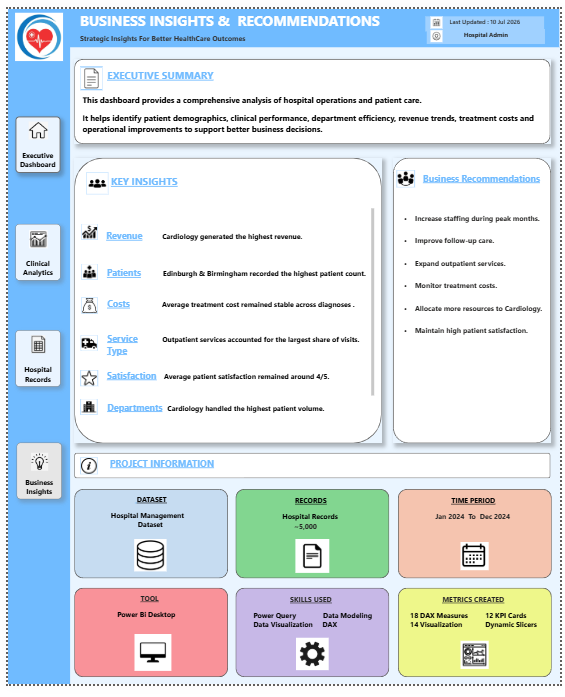

This screenshot's page, from the dashboard's own definition file:
{"tool":"powerbi","page":{"name":"Business Insights & Recommendations","canvas":[1470,1800],"ordinal":3},"visuals":[{"type":"shape","box":[0,101.4,165.7,1848.6],"z":0,"group":"g1"},{"type":"shape","box":[0,0,1470,102],"z":1000,"group":"g1"},{"type":"textbox","box":[176.7,0,848.3,73.3],"z":2000,"group":"g1"},{"type":"textbox","box":[176.7,60,571.7,41.7],"z":3000,"group":"g1"},{"type":"image","box":[8.6,8.6,145.7,128.6],"z":4000,"group":"g1"},{"type":"actionButton","box":[20,285,120,150],"z":5000,"group":"g1"},{"type":"cardVisual","fields":{"Data":["DAX Measures.Last Refresh"]},"box":[1096.7,1.7,350,73.3],"z":6000,"group":"g1"},{"type":"actionButton","box":[20,571.7,120,150],"z":7000,"group":"g1"},{"type":"image","box":[51.7,300,55,48.3],"z":8000,"group":"g1"},{"type":"image","box":[51.7,588.3,55,48.3],"z":9000,"group":"g1"},{"type":"actionButton","box":[21.7,1156.7,120,150],"z":10000,"group":"g1"},{"type":"actionButton","box":[20,855,120,150],"z":11000,"group":"g1"},{"type":"image","box":[56.7,1183.3,55,48.3],"z":12000,"group":"g1"},{"type":"image","box":[53.3,870,55,48.3],"z":13000,"group":"g1"},{"type":"textbox","box":[1115,53.3,315,40],"z":14000,"group":"g1"},{"type":"image","box":[1126.7,20,31.7,31.7],"z":15000,"group":"g1"},{"type":"shape","box":[176.7,133.3,1270,226.7],"z":16000,"group":"g1"},{"type":"image","box":[1126.7,51.7,31.7,38.3],"z":17000,"group":"g1"},{"type":"shape","box":[176.7,395,820,761.7],"z":18000,"group":"g1"},{"type":"textbox","box":[191.7,151.7,1238.3,196.7],"z":19000,"group":"g1"},{"type":"image","box":[191.7,151.7,58.3,63.3],"z":20000,"group":"g1"},{"type":"textbox","box":[191.7,435,340,78.3],"z":21000,"group":"g1"},{"type":"image","box":[210,435,56.7,56.7],"z":22000,"group":"g1"},{"type":"textbox","box":[191.7,525,788.3,586.7],"z":23000,"group":"g1"},{"type":"image","box":[196.7,571.7,41.7,41.7],"z":24000,"group":"g1"},{"type":"image","box":[196.7,680,41.7,41.7],"z":25000,"group":"g1"},{"type":"image","box":[196.7,770,41.7,41.7],"z":26000,"group":"g1"},{"type":"image","box":[191.7,870,46.7,41.7],"z":27000,"group":"g1"},{"type":"image","box":[191.7,963.3,46.7,41.7],"z":28000,"group":"g1"},{"type":"image","box":[193.3,1040,45,41.7],"z":29000,"group":"g1"},{"type":"shape","box":[1025,395,421.7,761.7],"z":30000,"group":"g1"},{"type":"textbox","box":[1096.7,428.3,331.7,70],"z":31000,"group":"g1"},{"type":"image","box":[1036.7,430,48.3,45],"z":32000,"group":"g1"},{"type":"textbox","box":[1036.7,538.3,393.3,588.3],"z":33000,"group":"g1"},{"type":"shape","box":[176.7,1183.3,1270,68.3],"z":34000,"group":"g1"},{"type":"textbox","box":[191.7,1188.3,435,58.3],"z":35000,"group":"g1"},{"type":"image","box":[193.3,1196.7,45,43.3],"z":36000,"group":"g1"},{"type":"shape","box":[176.7,1278.3,410,238.3],"z":37000,"group":"g1"},{"type":"textbox","box":[185,1290,388.3,210],"z":38000,"group":"g1"},{"type":"image","box":[333.3,1413.3,93.3,86.7],"z":39000,"group":"g1"},{"type":"shape","box":[1040,1278.3,410,238.3],"z":40000,"group":"g1"},{"type":"textbox","box":[1048.3,1294.7,388.3,210],"z":41000,"group":"g1"},{"type":"image","box":[1206.7,1413.3,75,91.7],"z":42000,"group":"g1"},{"type":"shape","box":[608.3,1278.3,410,238.3],"z":43000,"group":"g1"},{"type":"textbox","box":[612.3,1293.3,388.3,210],"z":44000,"group":"g1"},{"type":"image","box":[760,1413.3,103.3,90],"z":45000,"group":"g1"},{"type":"shape","box":[176,1541.7,410,238.3],"z":46000,"group":"g1"},{"type":"textbox","box":[184.3,1553.3,388.3,210],"z":47000,"group":"g1"},{"type":"image","box":[333.3,1665,106.7,98.3],"z":48000,"group":"g1"},{"type":"shape","box":[1039.3,1541.7,410,238.3],"z":49000,"group":"g1"},{"type":"textbox","box":[1047.7,1558,388.3,210],"z":50000,"group":"g1"},{"type":"image","box":[1206,1676.7,75,91.7],"z":51000,"group":"g1"},{"type":"shape","box":[607.7,1541.7,410,238.3],"z":52000,"group":"g1"},{"type":"textbox","box":[611.7,1556.7,388.3,210],"z":53000,"group":"g1"},{"type":"image","box":[760,1676.7,103.3,86.7],"z":54000,"group":"g1"},{"type":"group","id":"g1","title":"Group 1","box":[0,0,1470,1950],"z":54001}]}

Visuals, with their boxes in screenshot pixels (x1, y1, x2, y2), scaled from the page's 1470x1800 canvas onto the 565x697 screenshot:
shape: box=[0, 39, 64, 696]
shape: box=[0, 0, 564, 39]
textbox: box=[68, 0, 394, 28]
textbox: box=[68, 23, 288, 39]
image: box=[3, 3, 59, 53]
actionButton: box=[8, 110, 54, 168]
cardVisual - DAX Measures.Last Refresh: box=[422, 1, 556, 29]
actionButton: box=[8, 221, 54, 279]
image: box=[20, 116, 41, 135]
image: box=[20, 228, 41, 247]
actionButton: box=[8, 448, 54, 506]
actionButton: box=[8, 331, 54, 389]
image: box=[22, 458, 43, 477]
image: box=[20, 337, 42, 356]
textbox: box=[429, 21, 550, 36]
image: box=[433, 8, 445, 20]
shape: box=[68, 52, 556, 139]
image: box=[433, 20, 445, 35]
shape: box=[68, 153, 383, 448]
textbox: box=[74, 59, 550, 135]
image: box=[74, 59, 96, 83]
textbox: box=[74, 168, 204, 199]
image: box=[81, 168, 103, 190]
textbox: box=[74, 203, 377, 430]
image: box=[76, 221, 92, 238]
image: box=[76, 263, 92, 279]
image: box=[76, 298, 92, 314]
image: box=[74, 337, 92, 353]
image: box=[74, 373, 92, 389]
image: box=[74, 403, 92, 419]
shape: box=[394, 153, 556, 448]
textbox: box=[422, 166, 549, 193]
image: box=[398, 167, 417, 184]
textbox: box=[398, 208, 550, 436]
shape: box=[68, 458, 556, 485]
textbox: box=[74, 460, 241, 483]
image: box=[74, 463, 92, 480]
shape: box=[68, 495, 226, 587]
textbox: box=[71, 500, 220, 581]
image: box=[128, 547, 164, 581]
shape: box=[400, 495, 557, 587]
textbox: box=[403, 501, 552, 583]
image: box=[464, 547, 493, 583]
shape: box=[234, 495, 391, 587]
textbox: box=[235, 501, 385, 582]
image: box=[292, 547, 332, 582]
shape: box=[68, 597, 225, 689]
textbox: box=[71, 601, 220, 683]
image: box=[128, 645, 169, 683]
shape: box=[399, 597, 557, 689]
textbox: box=[403, 603, 552, 685]
image: box=[464, 649, 492, 685]
shape: box=[234, 597, 391, 689]
textbox: box=[235, 603, 384, 684]
image: box=[292, 649, 332, 683]
"Group 1" group: box=[0, 0, 564, 696]
